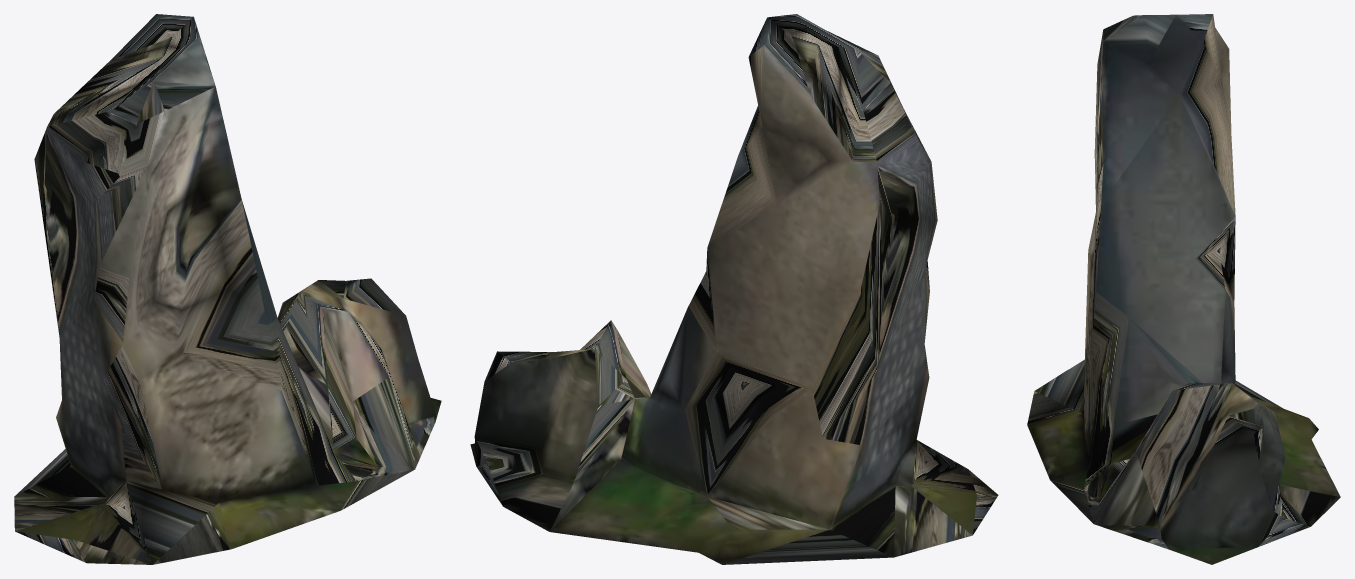
Rendered from A_big_menhir_with_anc.glb.
The picture shows the model from 3 angles, left to right: view 1: azimuth 30°, elevation 25°; view 2: azimuth 150°, elevation 25°; view 3: azimuth 270°, elevation 25°; orthographic projection. The views are drawn at different scales.
Parts seen in each view (by area): view 1: A_big_menhir_with_anc; view 2: A_big_menhir_with_anc; view 3: A_big_menhir_with_anc.
Boxes of the visible parts, x1,y1,x2,y2 form: A_big_menhir_with_anc: (14,14,441,564); A_big_menhir_with_anc: (470,14,998,564); A_big_menhir_with_anc: (1027,14,1340,564).
Size of the model in its own units: 1.99 by 1.94 by 1.28.
1 material, 1 textured.
